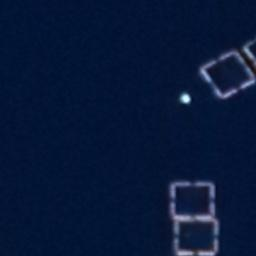square_solid: (195, 46, 256, 104), (164, 175, 220, 225), (168, 211, 225, 256)
